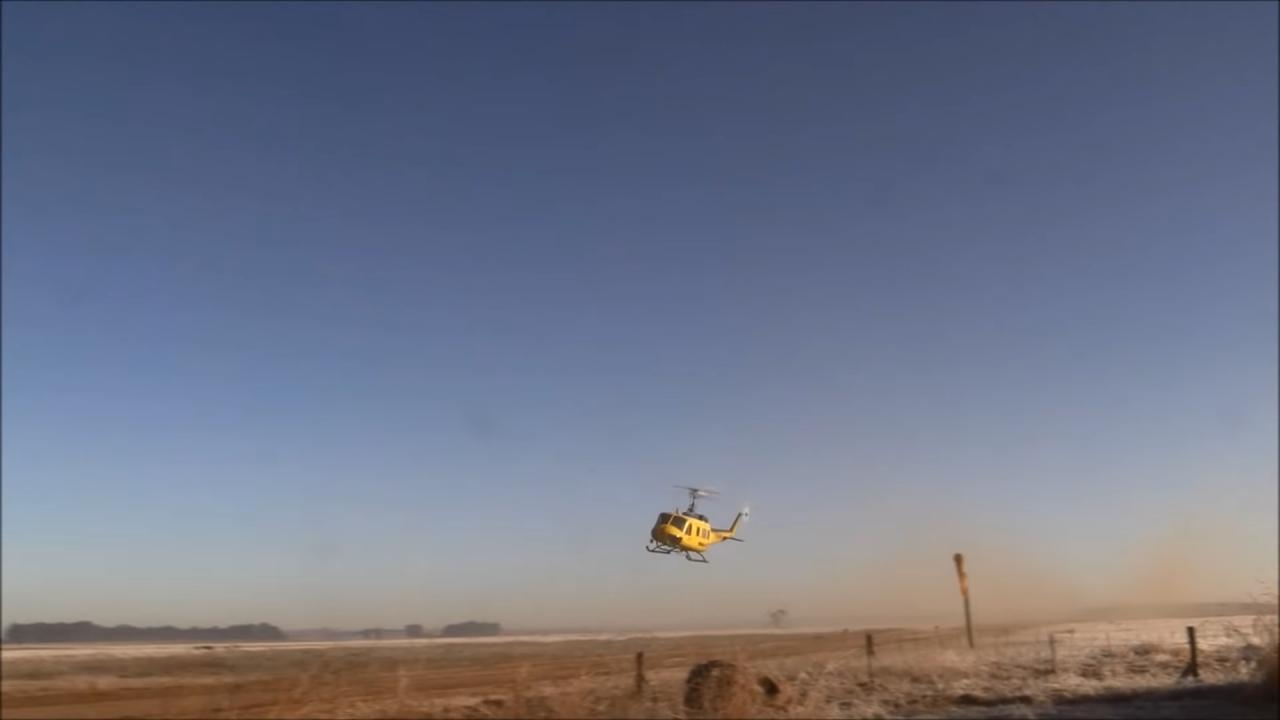Helicopter: (632, 470, 766, 575)
